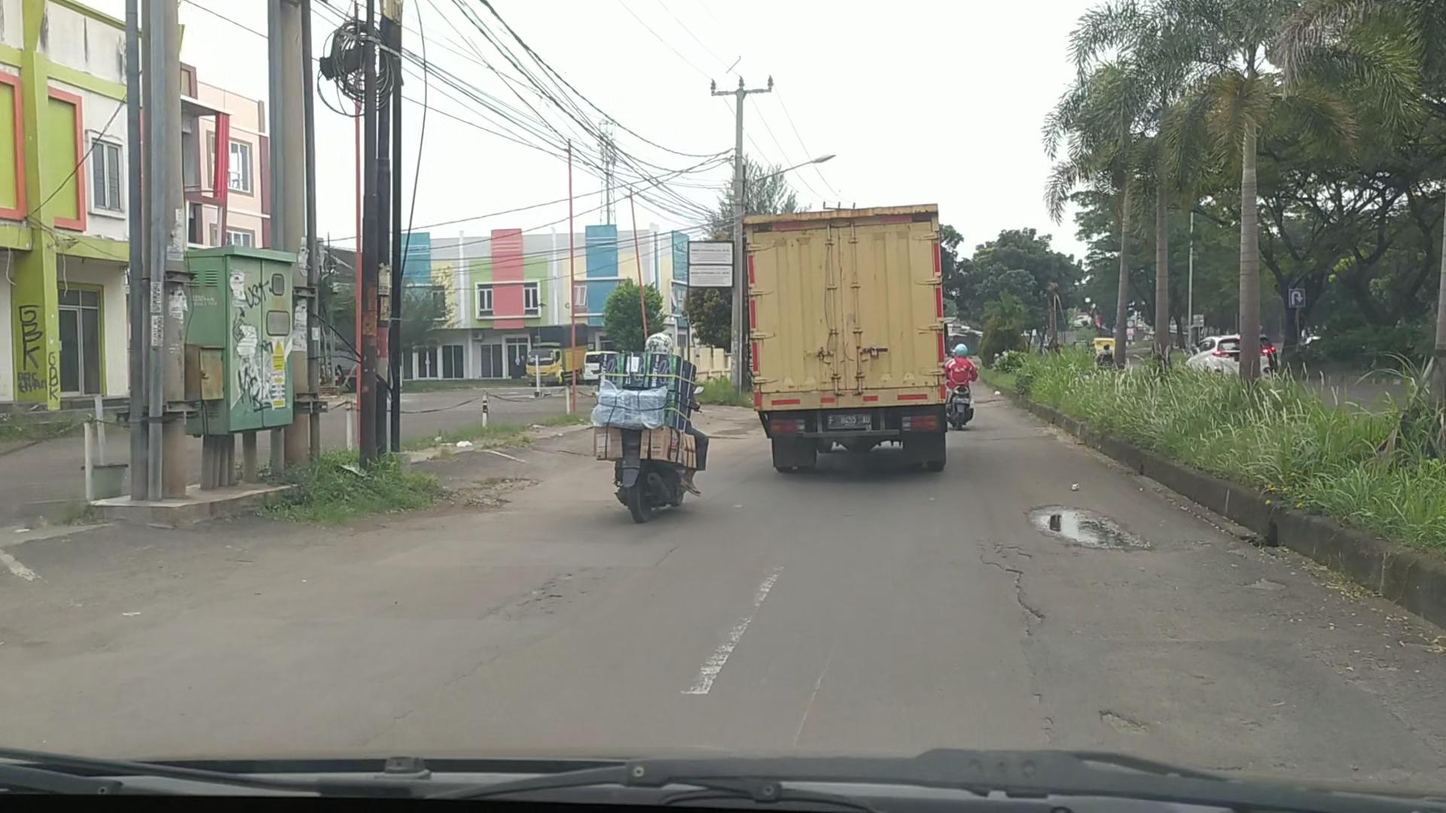pothole: (1022, 504, 1147, 552), (457, 477, 540, 510), (1098, 708, 1151, 737)
